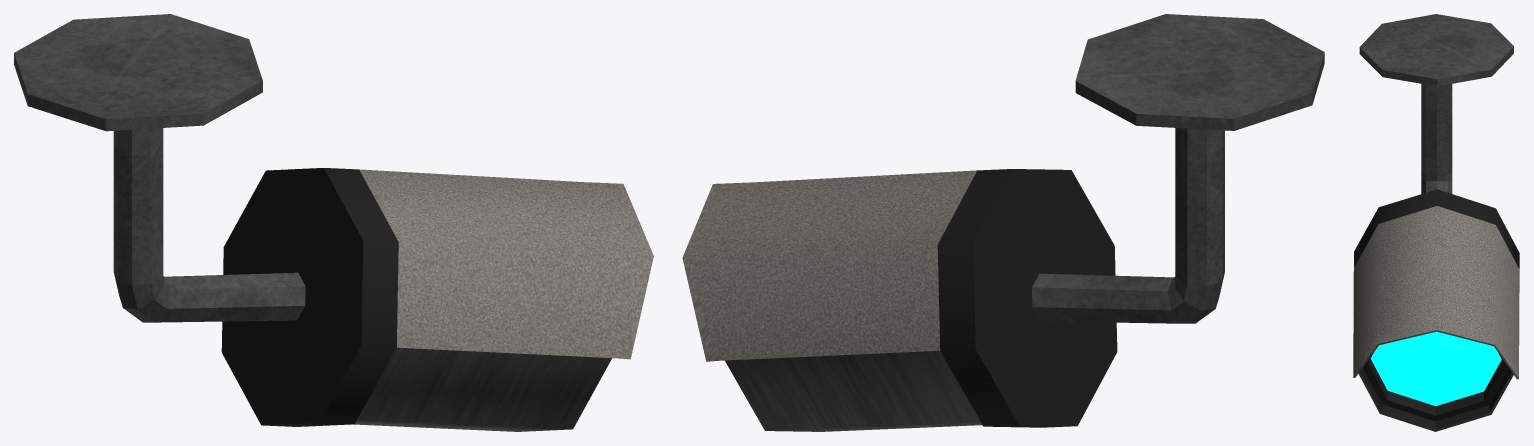
File: new camera.fbx
The picture shows the model from 3 angles, left to right: view 1: azimuth 30°, elevation 25°; view 2: azimuth 150°, elevation 25°; view 3: azimuth 270°, elevation 25°; orthographic projection. The views are drawn at different scales.
Visible parts, largest first — view 1: pCylinder323; view 2: pCylinder323; view 3: pCylinder323.
Boxes of the visible parts, x1,y1,x2,y2 form: pCylinder323: (14,14,653,431); pCylinder323: (682,14,1324,431); pCylinder323: (1353,14,1519,431).
Size of the model in its own units: 134 by 98.39 by 54.07.
